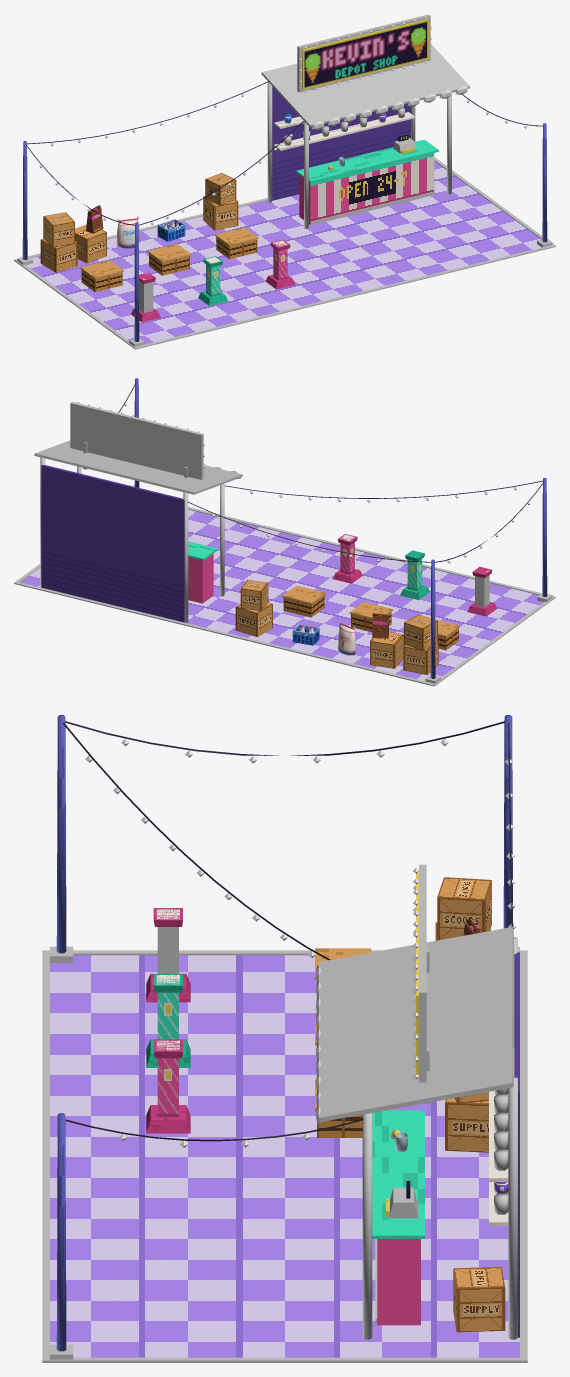
The model's file is Kevin's Stall.fbx.
3 views of the same model, one above another, from view 1: azimuth 30°, elevation 25°; view 2: azimuth 150°, elevation 25°; view 3: azimuth 270°, elevation 25° (orthographic). The views are drawn at different scales.
Visible parts, largest first — view 1: Kevin's Stall floor mat, Kevin's Stall awning, Kevin's Stall back wall, Kevin's Stall sign board, Kevin's Stall counter, Kevin's Stall counter top, Kevin's Stall mat edge front, Kevin's Stall sign frame, Kevin's Stall crate 1, Kevin's Stall crate 0, Kevin's Stall shelf 0, Kevin's Stall crate 2 (+21 smaller); view 2: Kevin's Stall floor mat, Kevin's Stall back wall, Kevin's Stall sign frame, Kevin's Stall awning, Kevin's Stall mat edge back, Kevin's Stall counter, Kevin's Stall crate 2, Kevin's Stall crate 3, Kevin's Stall mat edge front, Kevin's Stall crate 1, Kevin's Stall crate 0, Kevin's Stall crate 4 (+14 smaller); view 3: Kevin's Stall floor mat, Kevin's Stall awning, Kevin's Stall counter top, Kevin's Stall counter, Kevin's Stall crate 5, Kevin's Stall mat edge front, Kevin's Stall mat edge back, Kevin's Stall crate 1, Kevin's Stall mat edge right, Kevin's Stall post 4.4 2.4, Kevin's Stall post 4.4 0.8, Kevin's Stall crate 3 (+15 smaller).
Boxes of the visible parts, x1,y1,x2,y2 form: Kevin's Stall floor mat: (26, 161, 541, 344); Kevin's Stall awning: (261, 43, 469, 127); Kevin's Stall back wall: (272, 86, 410, 200); Kevin's Stall sign board: (302, 19, 428, 89); Kevin's Stall counter: (299, 153, 434, 224); Kevin's Stall counter top: (296, 139, 438, 182); Kevin's Stall mat edge front: (133, 244, 555, 349); Kevin's Stall sign frame: (297, 14, 430, 92); Kevin's Stall crate 1: (43, 212, 74, 247); Kevin's Stall crate 0: (40, 238, 77, 272); Kevin's Stall shelf 0: (274, 112, 414, 150); Kevin's Stall crate 2: (75, 225, 106, 263); Kevin's Stall floor mat: (20, 509, 543, 680); Kevin's Stall back wall: (41, 465, 184, 622); Kevin's Stall sign frame: (70, 402, 203, 479); Kevin's Stall awning: (34, 440, 242, 494); Kevin's Stall mat edge back: (14, 581, 436, 686); Kevin's Stall counter: (188, 553, 213, 603); Kevin's Stall crate 2: (370, 632, 403, 668); Kevin's Stall crate 3: (235, 602, 272, 636); Kevin's Stall mat edge front: (188, 507, 541, 595); Kevin's Stall crate 1: (404, 614, 437, 650); Kevin's Stall crate 0: (403, 641, 438, 674); Kevin's Stall crate 4: (240, 579, 268, 610); Kevin's Stall floor mat: (50, 955, 519, 1357); Kevin's Stall awning: (318, 927, 513, 1122); Kevin's Stall counter top: (372, 1110, 424, 1238); Kevin's Stall counter: (377, 1239, 420, 1325); Kevin's Stall crate 5: (453, 1267, 505, 1332); Kevin's Stall mat edge front: (42, 950, 49, 1362); Kevin's Stall mat edge back: (520, 950, 527, 1362); Kevin's Stall crate 1: (437, 877, 491, 940); Kevin's Stall mat edge right: (42, 1357, 527, 1362); Kevin's Stall post 4.4 2.4: (508, 1076, 517, 1339); Kevin's Stall post 4.4 0.8: (362, 1113, 372, 1339); Kevin's Stall crate 3: (445, 1098, 488, 1152).
Size of the model in its own units: 10 by 3.89 by 5.
